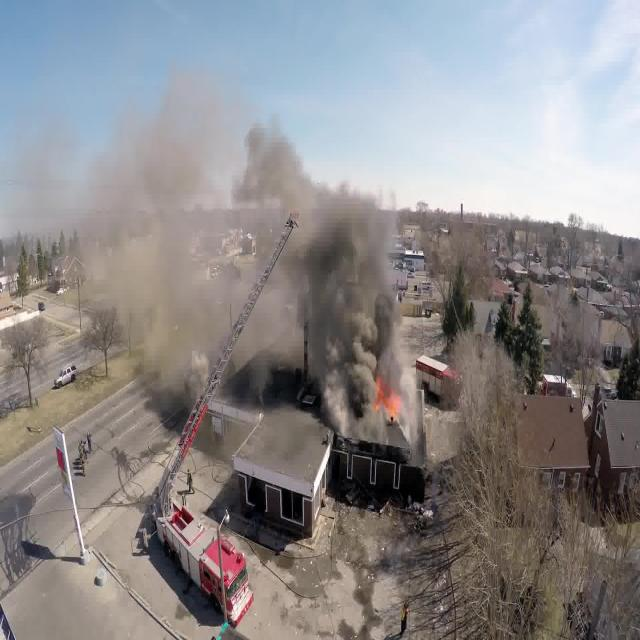Fire: (368, 382, 402, 427)
Smoke: (10, 73, 418, 444)
